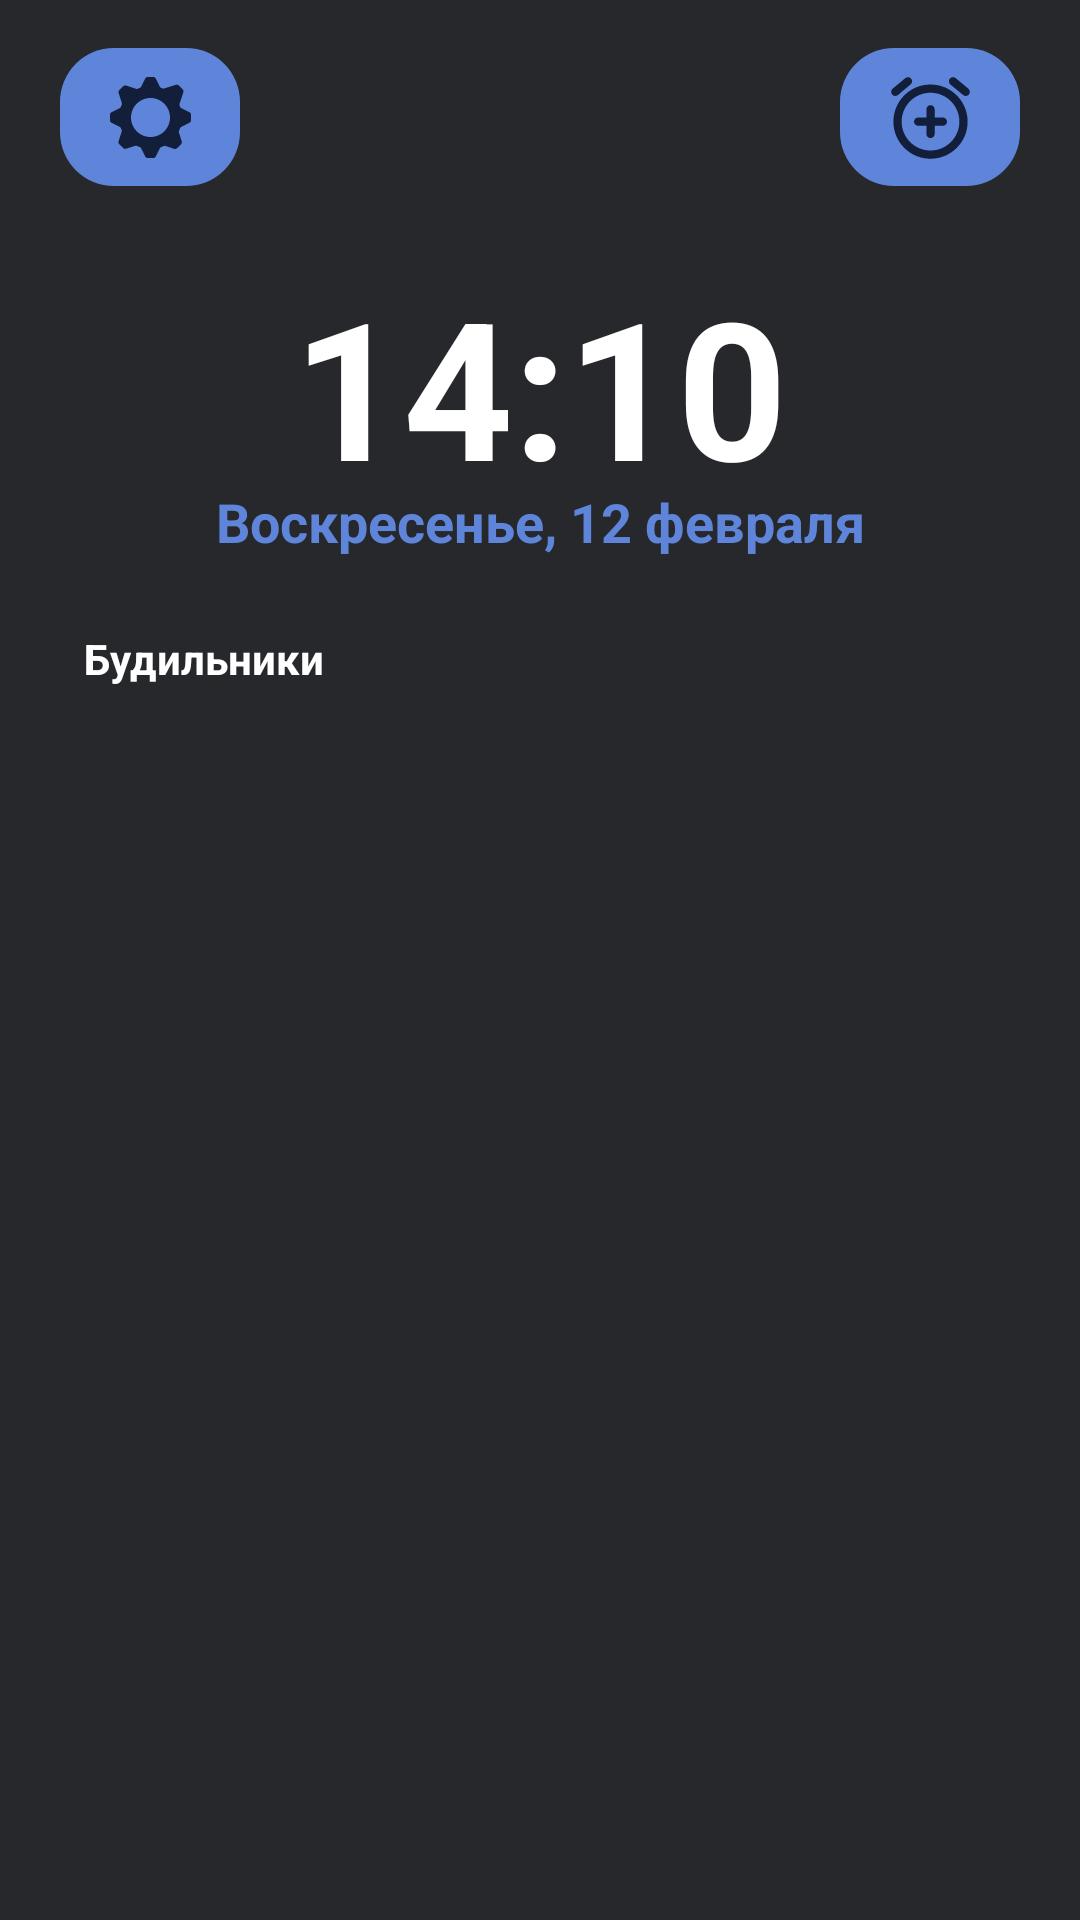

Point at icon controls on the screen. Image size 1080 x 1920, points as (x=x, y=y).
alarm: (x=930, y=117)
settings gear: (x=150, y=117)
